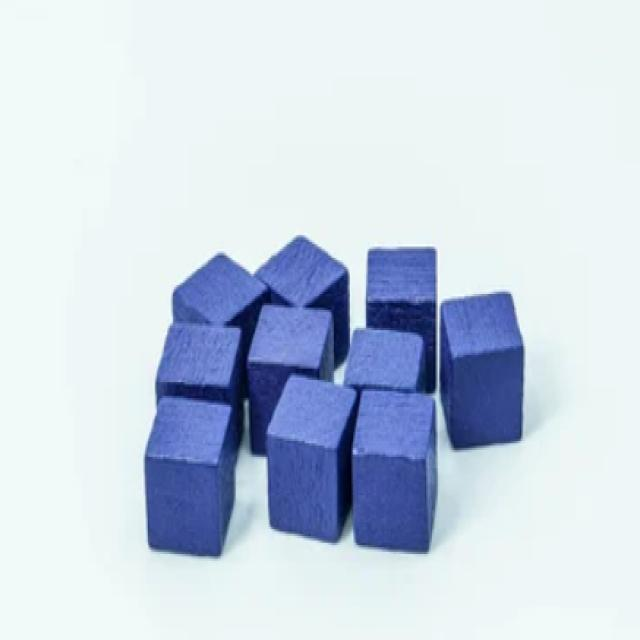bluecube: (265, 372, 360, 544), (172, 250, 270, 403), (351, 386, 439, 555), (145, 398, 237, 557), (439, 291, 524, 452), (156, 322, 247, 469), (253, 233, 350, 370), (247, 306, 334, 457), (366, 248, 437, 393), (345, 329, 429, 393)
